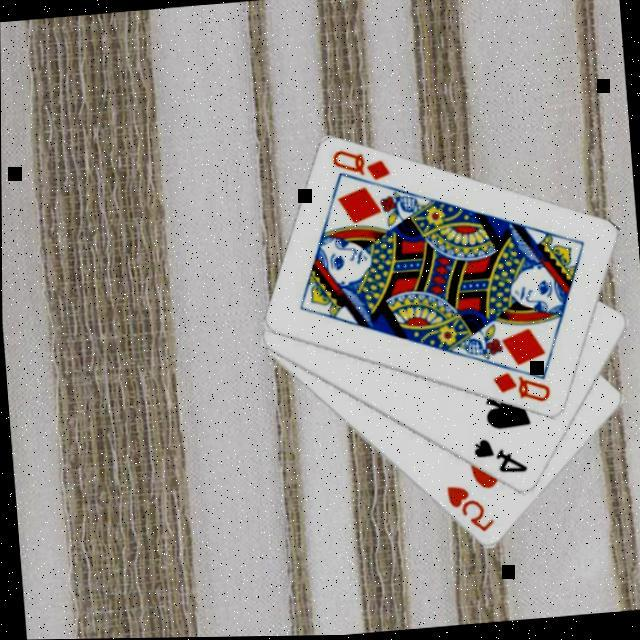4S: (471, 433, 532, 480)
5H: (443, 480, 499, 538)
QD: (328, 143, 395, 188), (491, 366, 555, 409)
